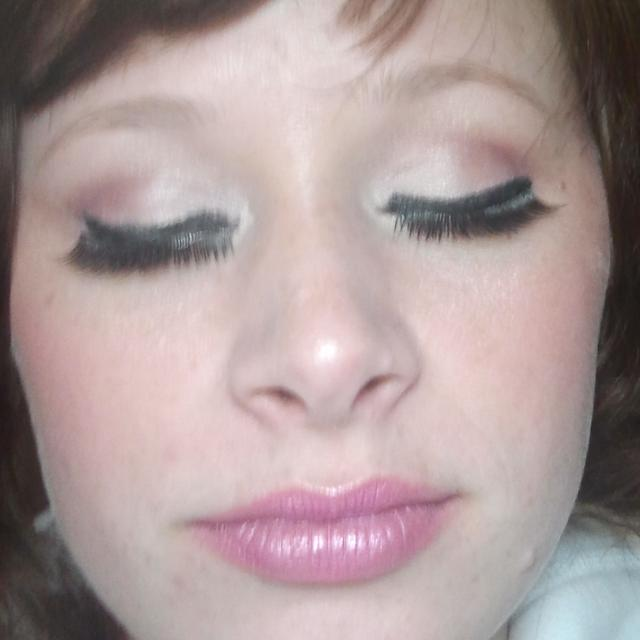Eyeclosed: (70, 202, 244, 285), (375, 172, 543, 251)
